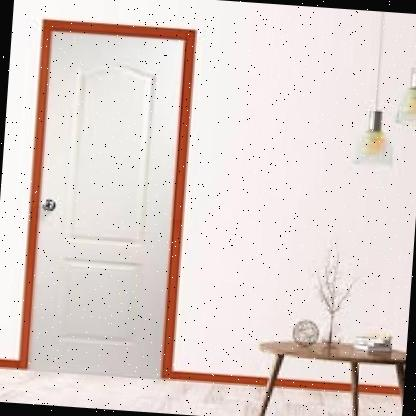door: (10, 11, 203, 386)
